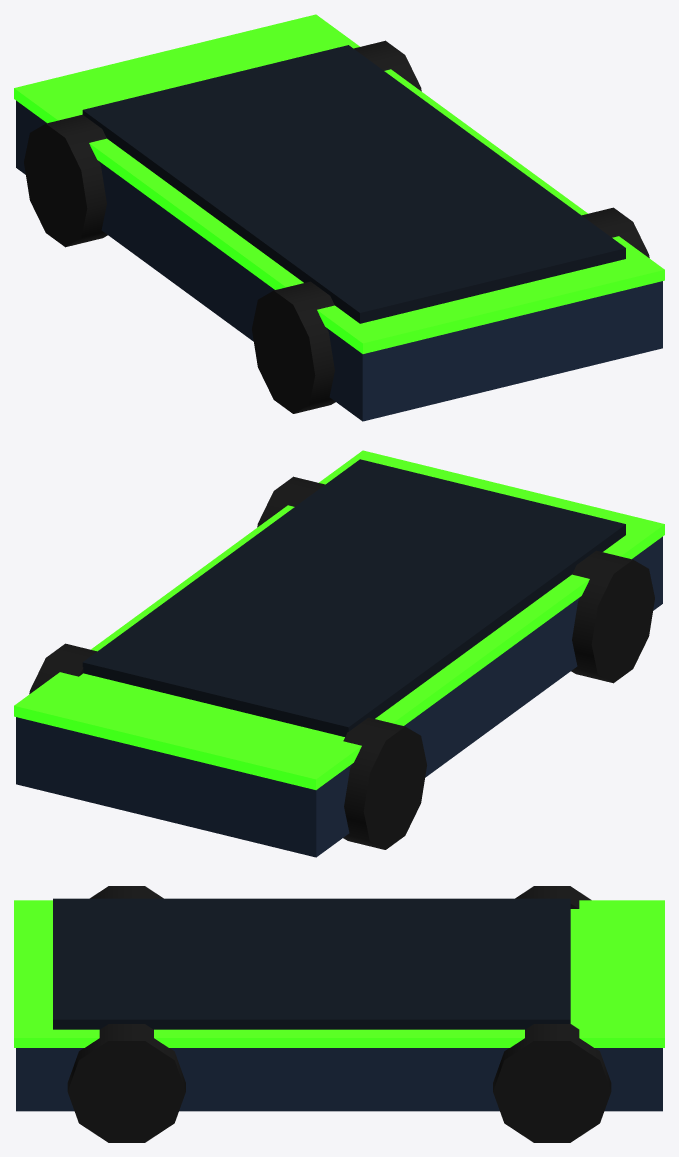
File: threshold_child_runner_lod1.glb
3 renders of one model, top to bottom at view 1: azimuth 30°, elevation 25°; view 2: azimuth 150°, elevation 25°; view 3: azimuth 270°, elevation 25°, orthographic. The views are drawn at different scales.
Parts seen in each view (by area): view 1: Threshold Runner_LOD1; view 2: Threshold Runner_LOD1; view 3: Threshold Runner_LOD1.
Part boxes in pixels (bbox=[...]): Threshold Runner_LOD1: bbox=[14, 14, 664, 421]; Threshold Runner_LOD1: bbox=[14, 450, 664, 857]; Threshold Runner_LOD1: bbox=[14, 886, 664, 1142].
Size of the model in its own units: 1.98 by 0.6343 by 3.52.
